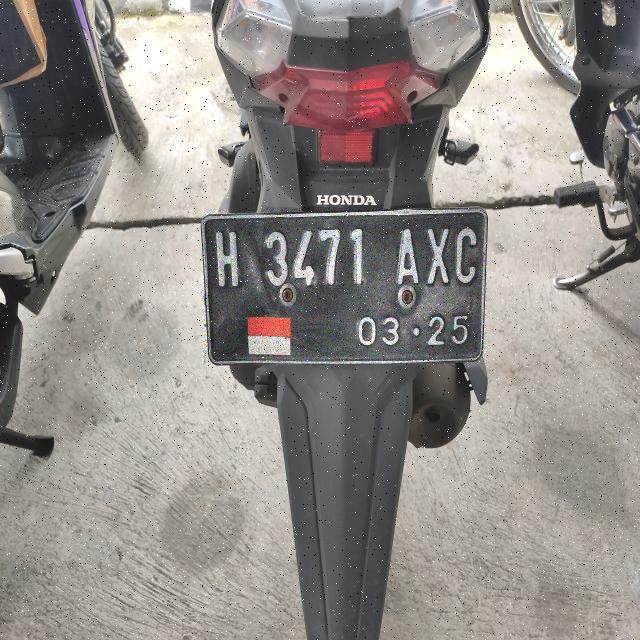plate: (203, 209, 486, 363)
